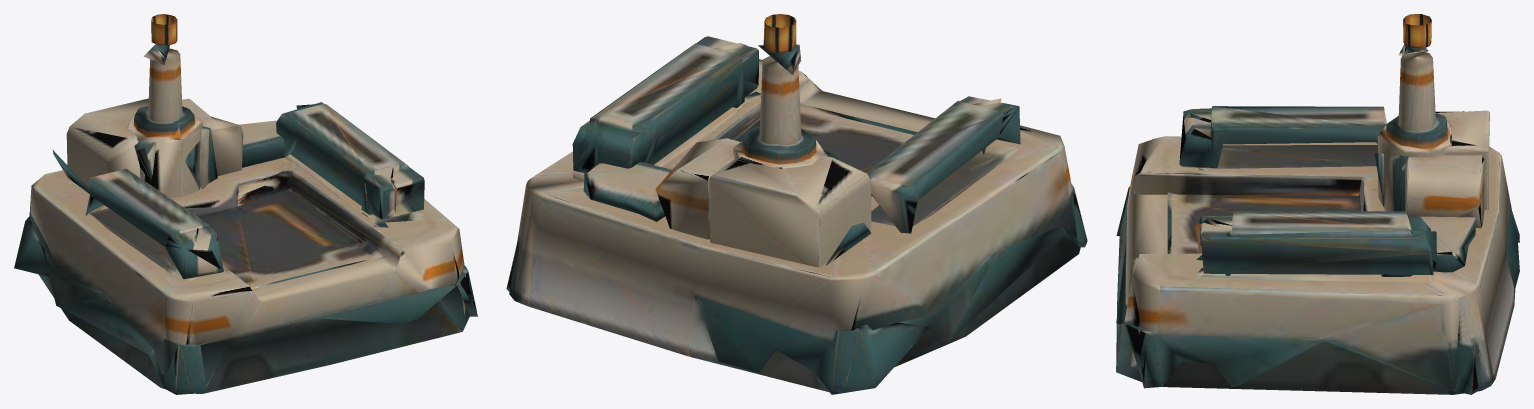
Rendered from logistics_hub-lod1.b58e6331a677.glb.
3 views of the same model, side by side, from view 1: azimuth 30°, elevation 25°; view 2: azimuth 150°, elevation 25°; view 3: azimuth 270°, elevation 25° (orthographic). The views are drawn at different scales.
Parts seen in each view (by area): view 1: geometry_0; view 2: geometry_0; view 3: geometry_0.
Part boxes in pixels (x1=…): geometry_0: x1=14, y1=14, x2=477, y2=394; geometry_0: x1=506, y1=14, x2=1087, y2=394; geometry_0: x1=1116, y1=14, x2=1519, y2=394.
Size of the model in its own units: 1 by 0.74 by 0.9994.
1 material, 1 textured.
